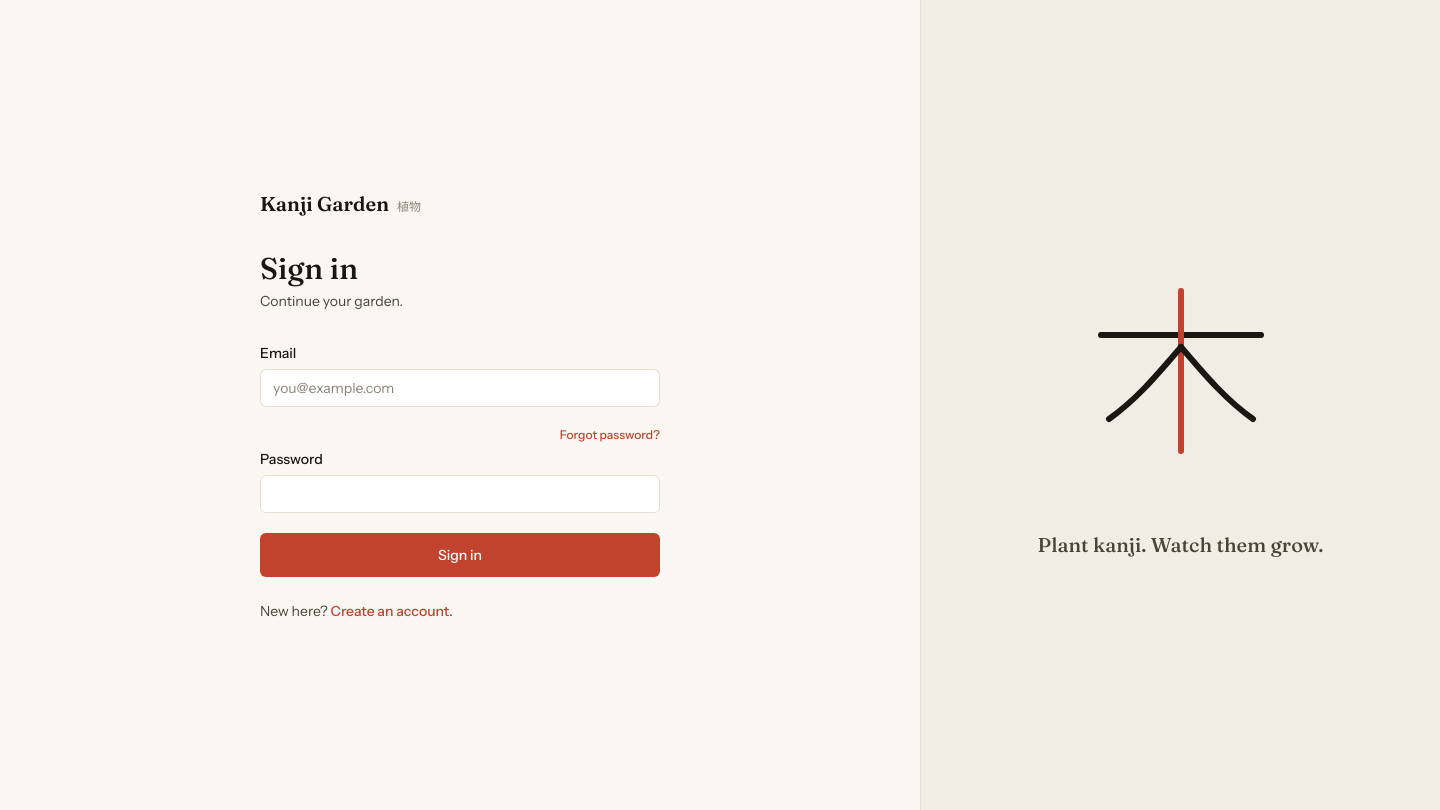
Test: Login screen (§7.11 + D2) › validates the email format
Type "nope" into the field labelled "Email".
click(460, 388); type("nope")  # box [260, 369, 660, 407]
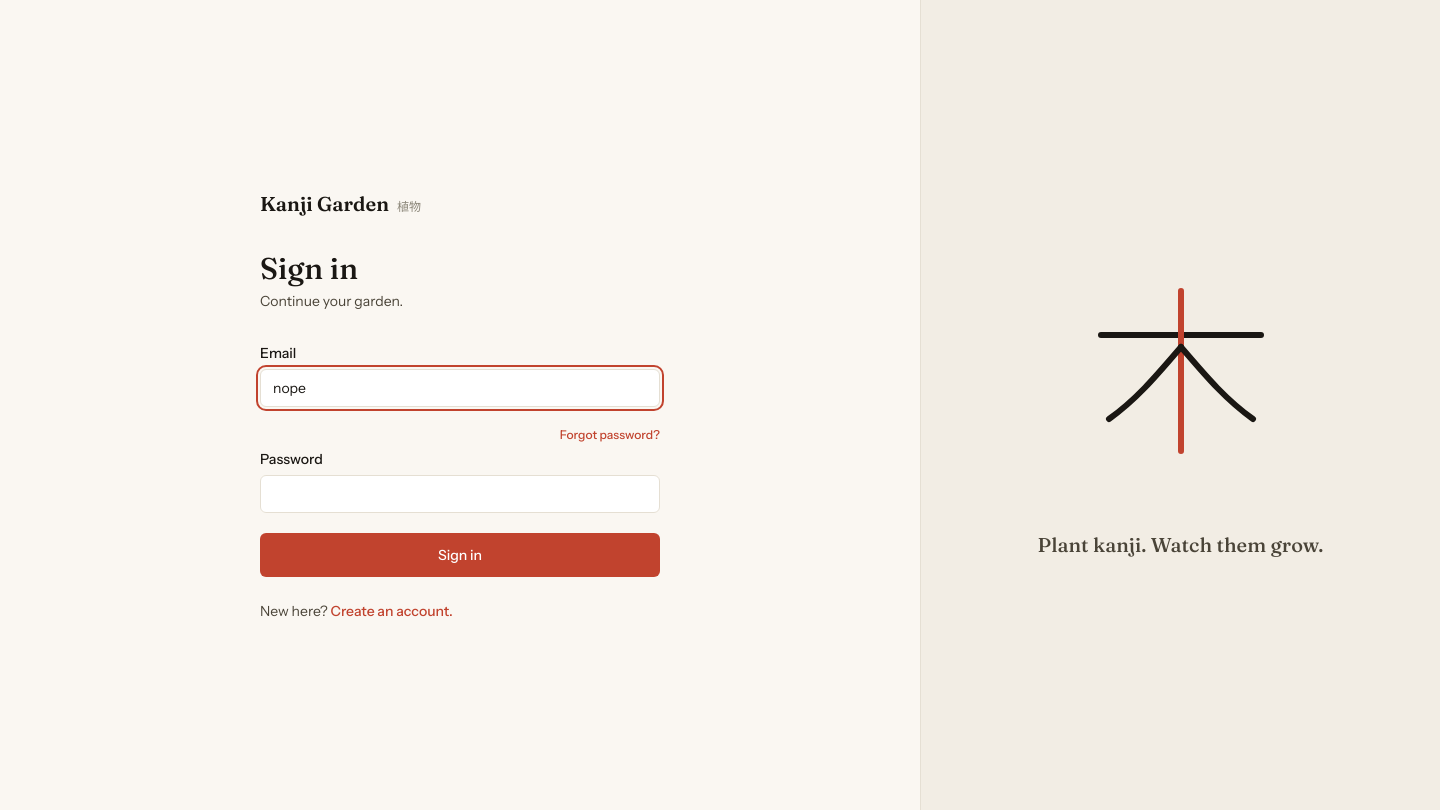
Click the button "Sign in".
click(460, 555)  # box [260, 533, 660, 577]
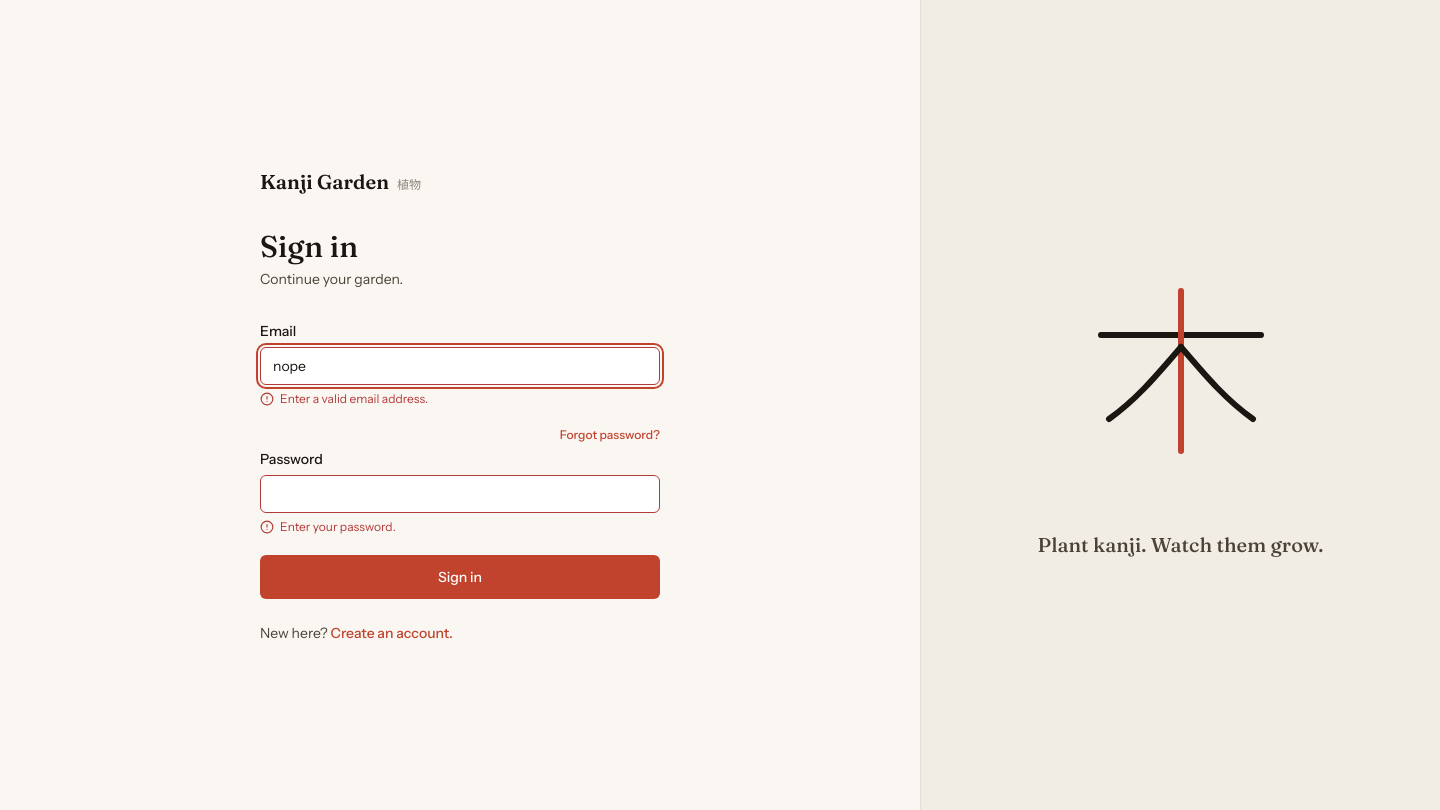
Expected: the text "Enter a valid email address." is shown, [260, 391, 428, 406]
